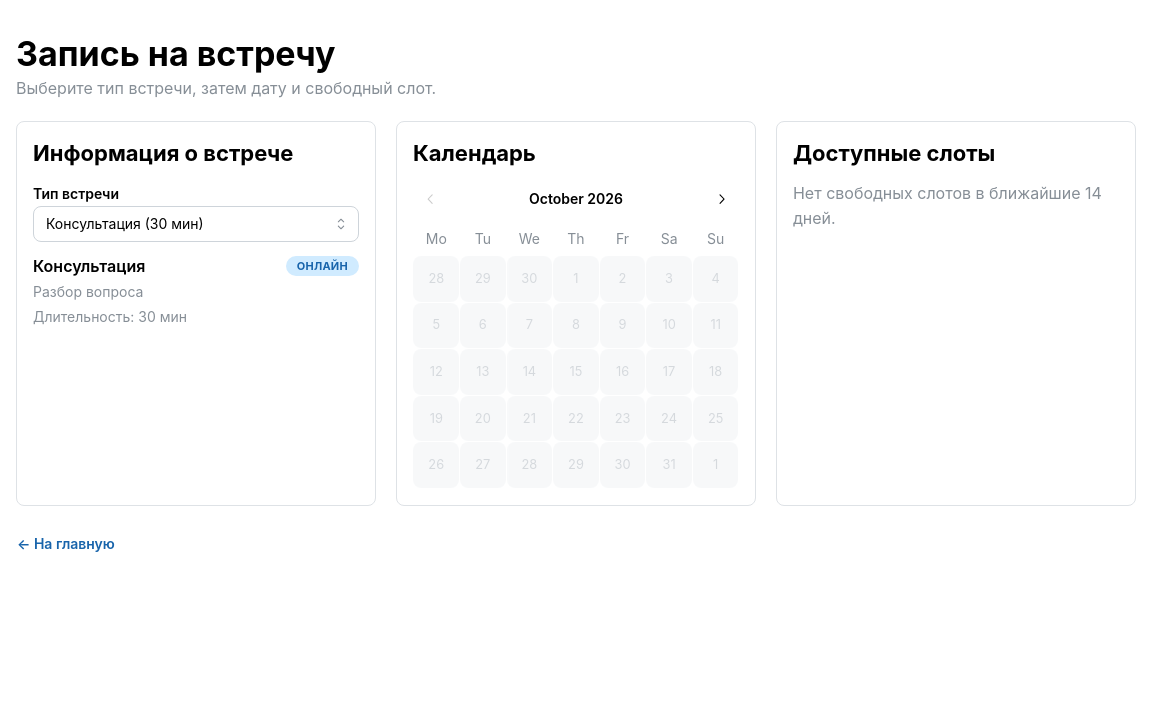
it: Страница записи › переключает тип через выпадающий список
Select "Созвон (15 мин)" in the dropdown labelled "Тип встречи" at (196, 224), box [33,206,359,242]
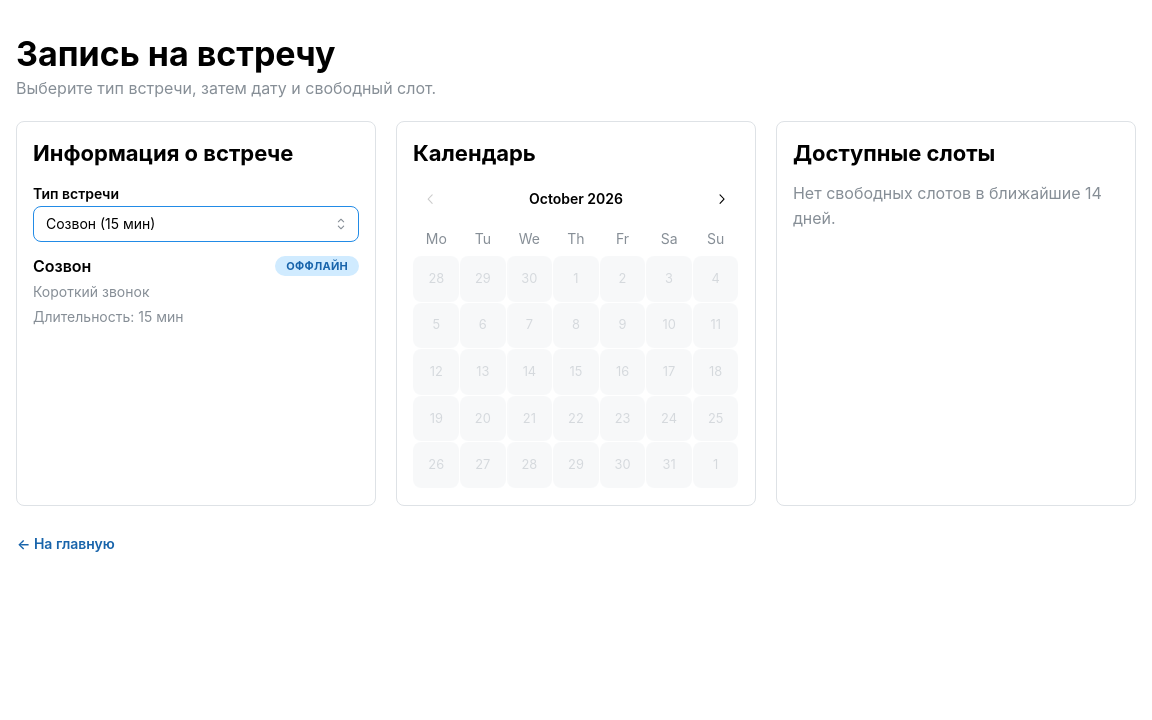
Expected: the text "Созвон" is shown, [33,254,91,278]
Expected: the text "оффлайн" is shown, [286,257,348,275]
